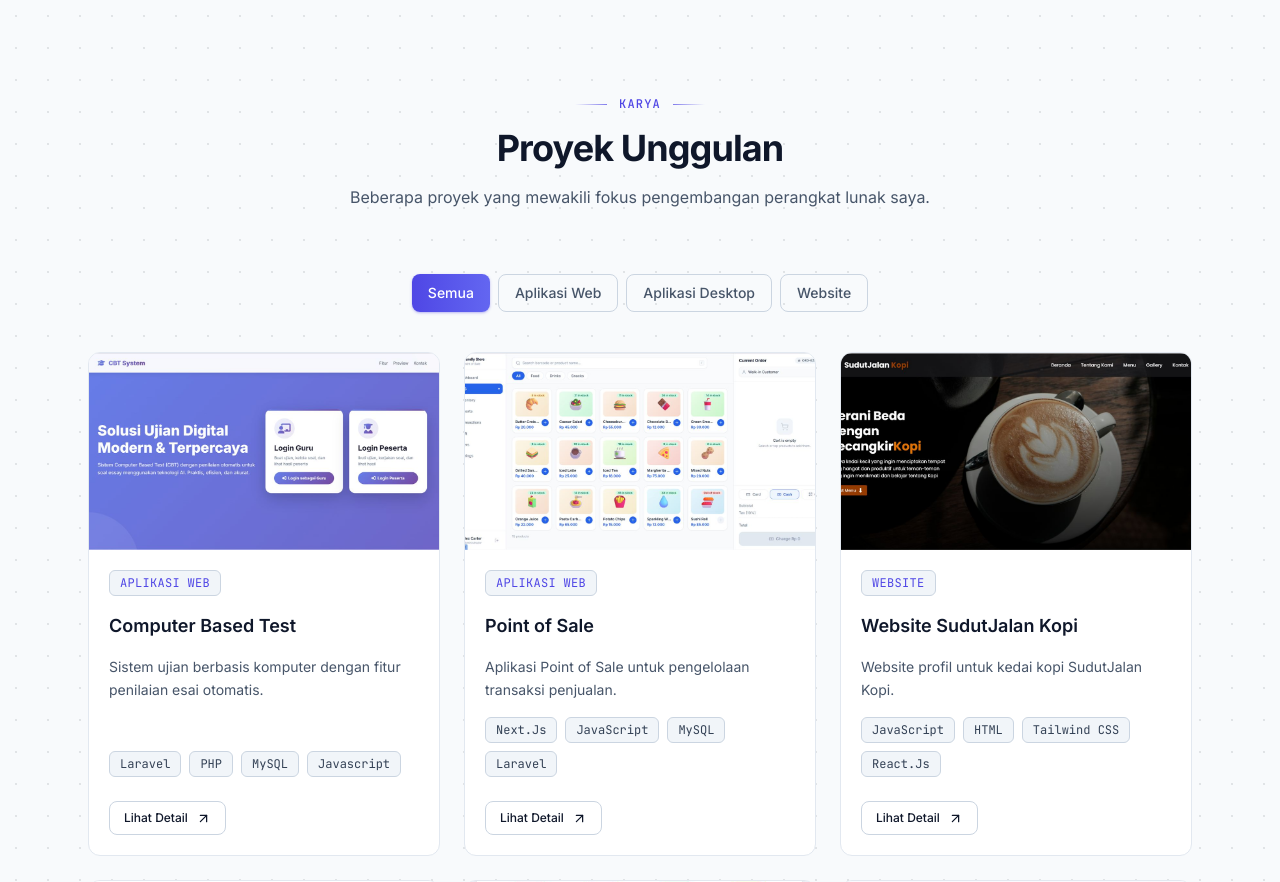
Section Projects — filter, empty state, modal › menutup modal dengan tombol tutup
This screenshot has width=1280, height=882.
What coordinates should you click on to do the following:
click the button "Lihat Detail" below "Computer Based Test"
I would click on:
 (167, 818)
Its box is x1=109 y1=801 x2=226 y2=835.
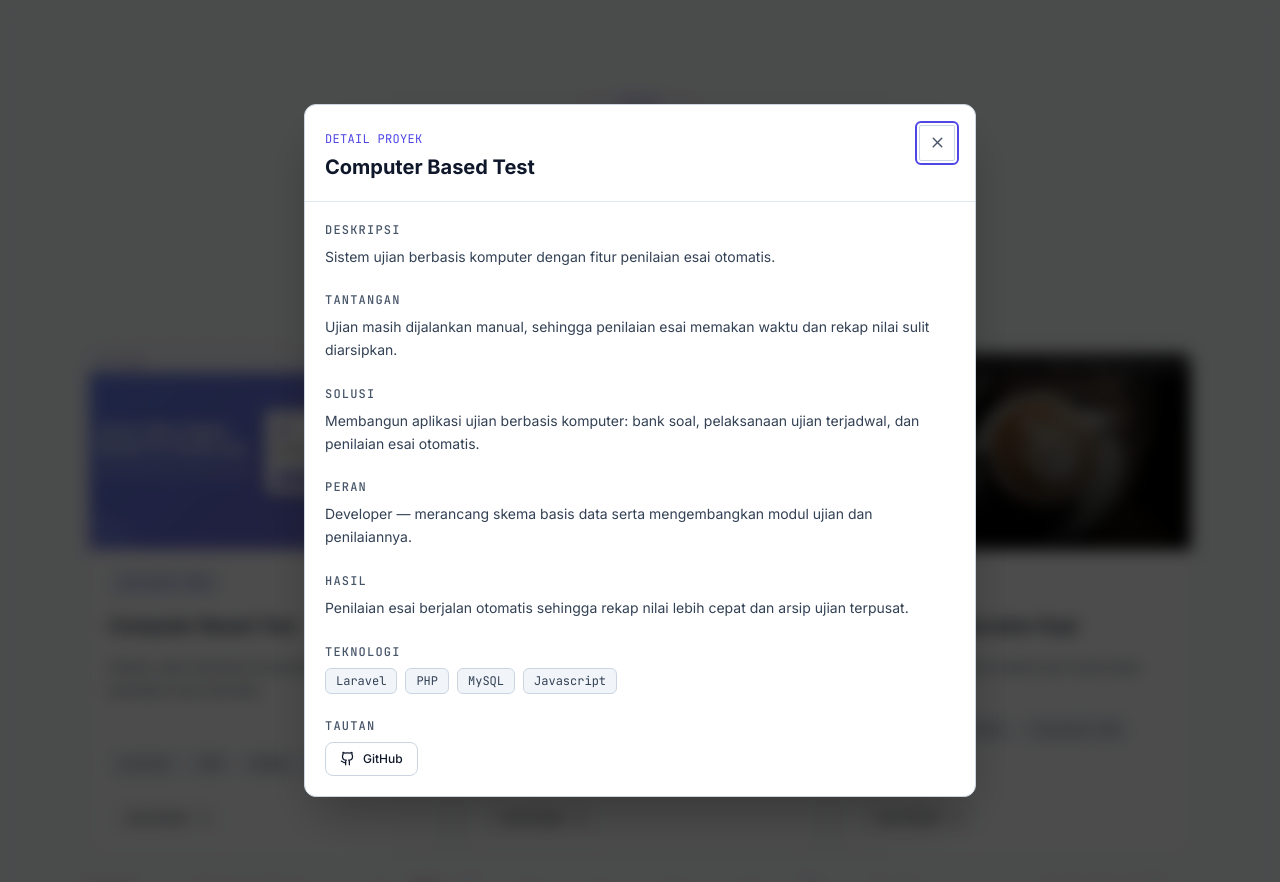
Expected: the dialog is shown, x1=304 y1=104 x2=976 y2=796
What coordinates should you click on to do the following:
click the button named "Tutup detail proyek"
I would click on:
 (937, 142)
Its box is x1=919 y1=124 x2=955 y2=160.
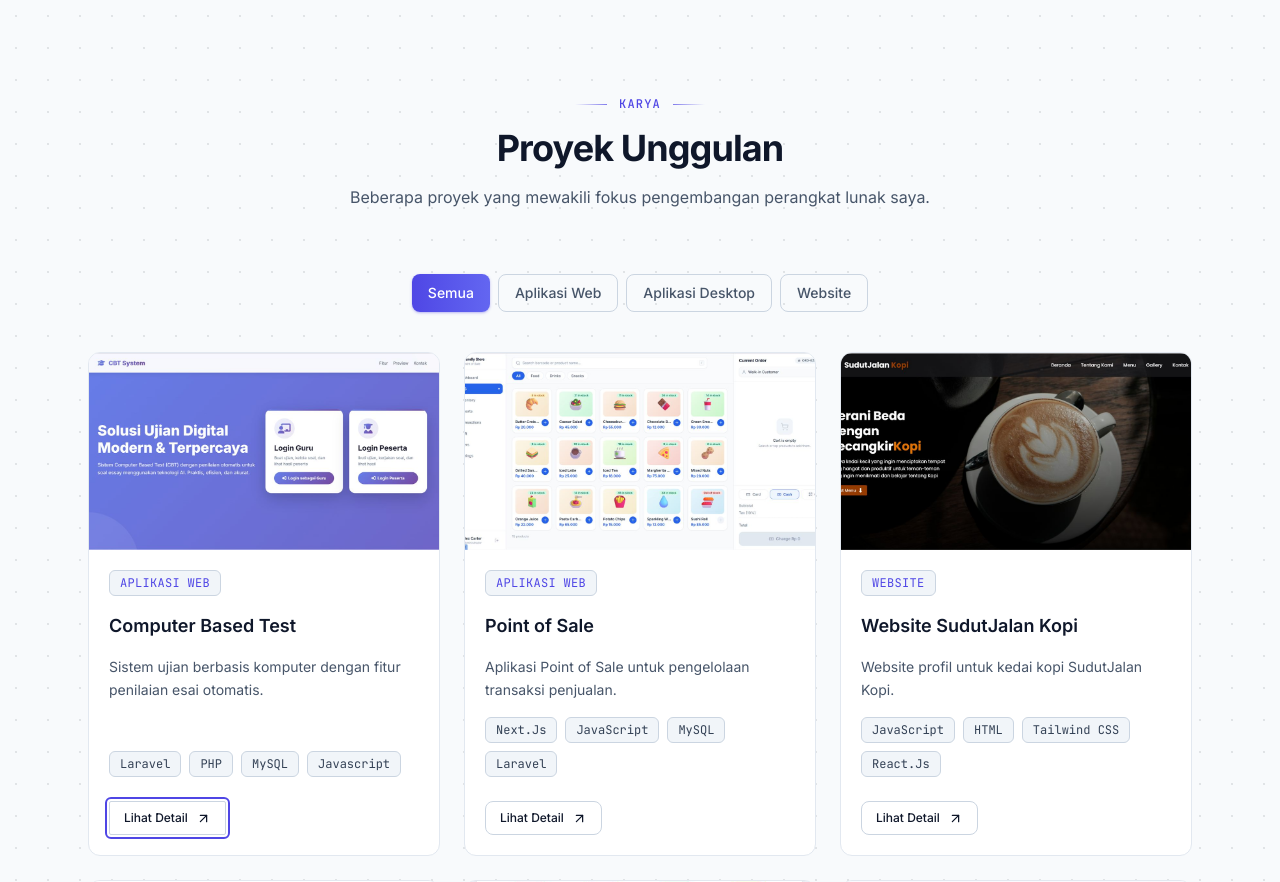
Expected: the dialog is gone
